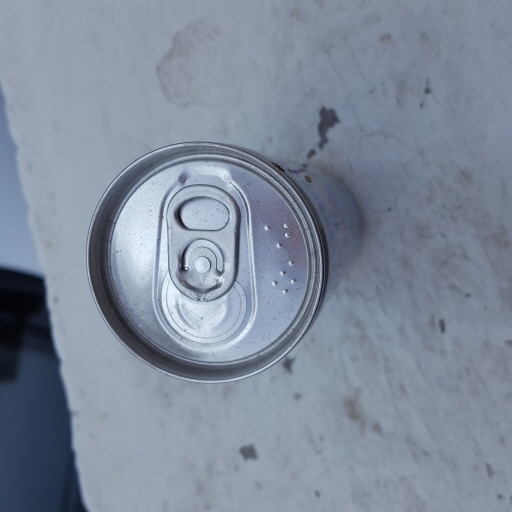Metal_0: (85, 137, 369, 388)
